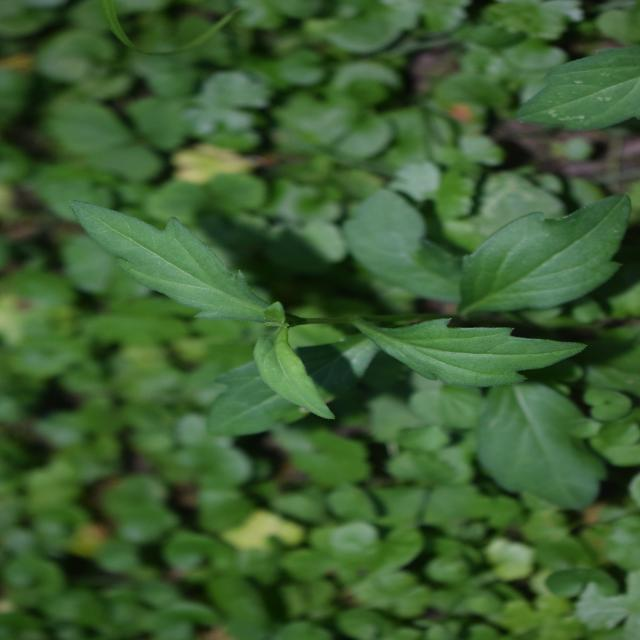Indian aster: (177, 86, 466, 605)
